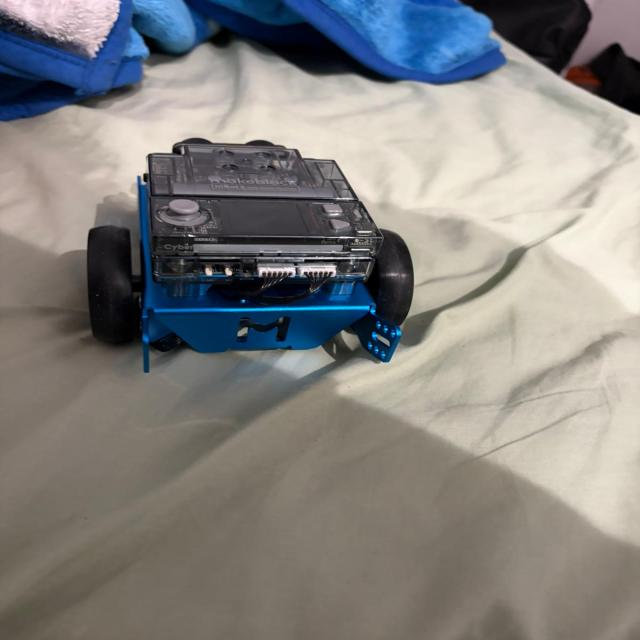mbot-detection: (77, 128, 431, 378)
